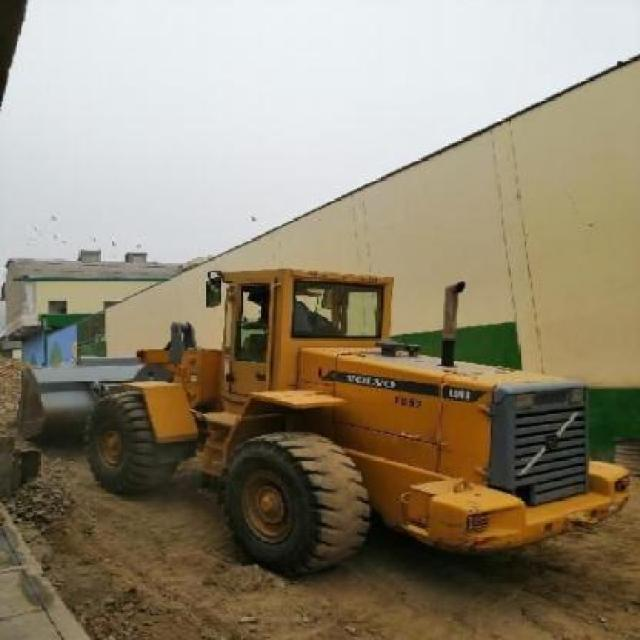buldozerpayloadergrader: (83, 254, 632, 588)
